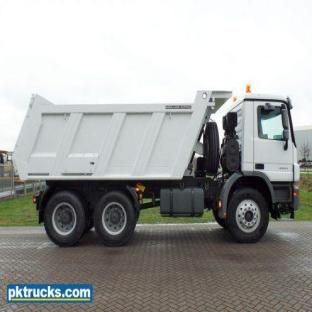Vehicle: (11, 76, 305, 249)
